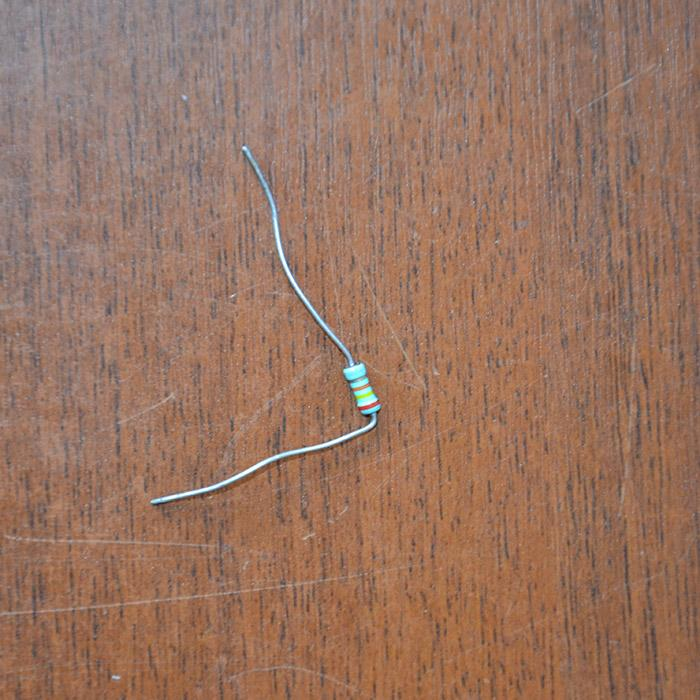resistor: (341, 360, 380, 415)
